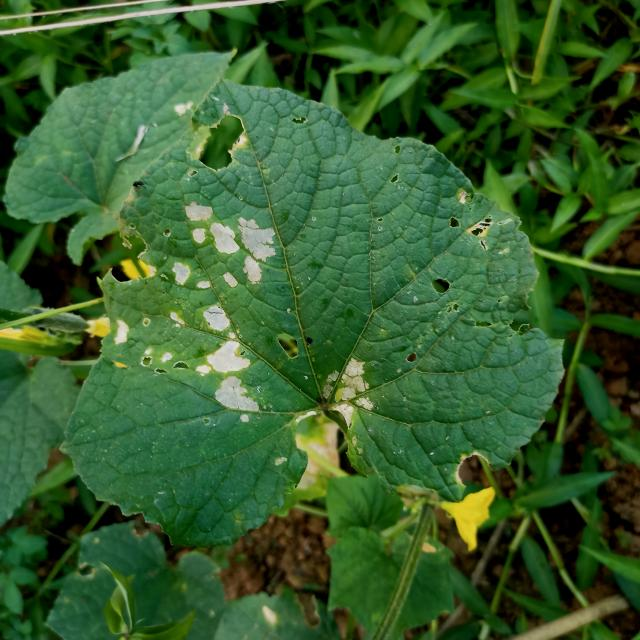disease_cucumber: (104, 289, 273, 427), (150, 183, 286, 289), (316, 348, 391, 434)
